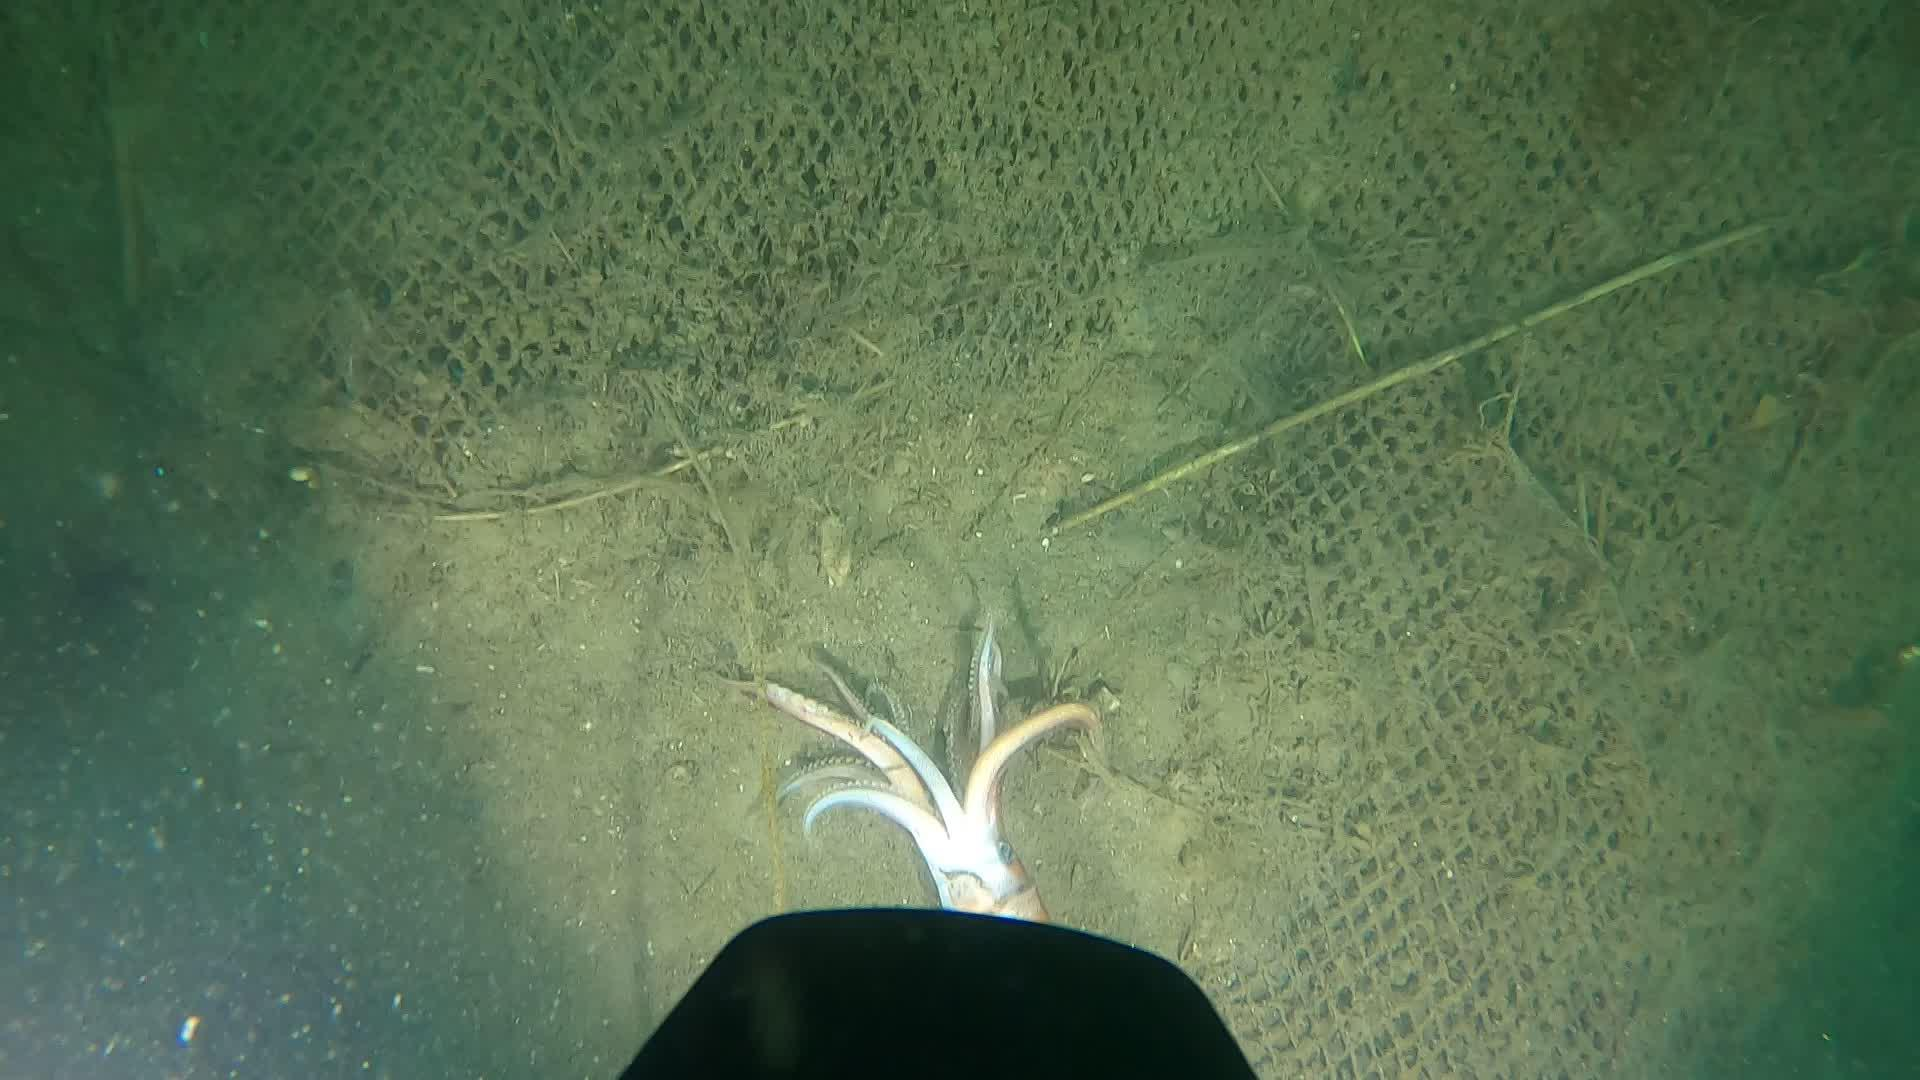fish net: (1211, 0, 1920, 1080), (144, 3, 1247, 448)
